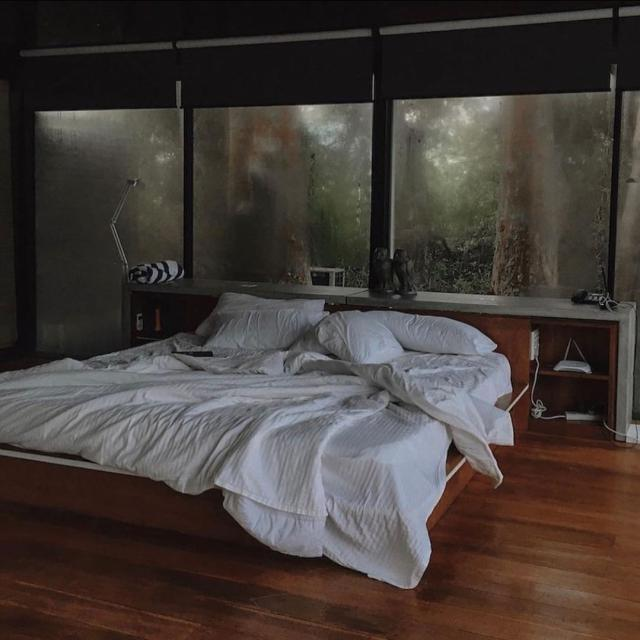bed: (1, 283, 532, 585)
